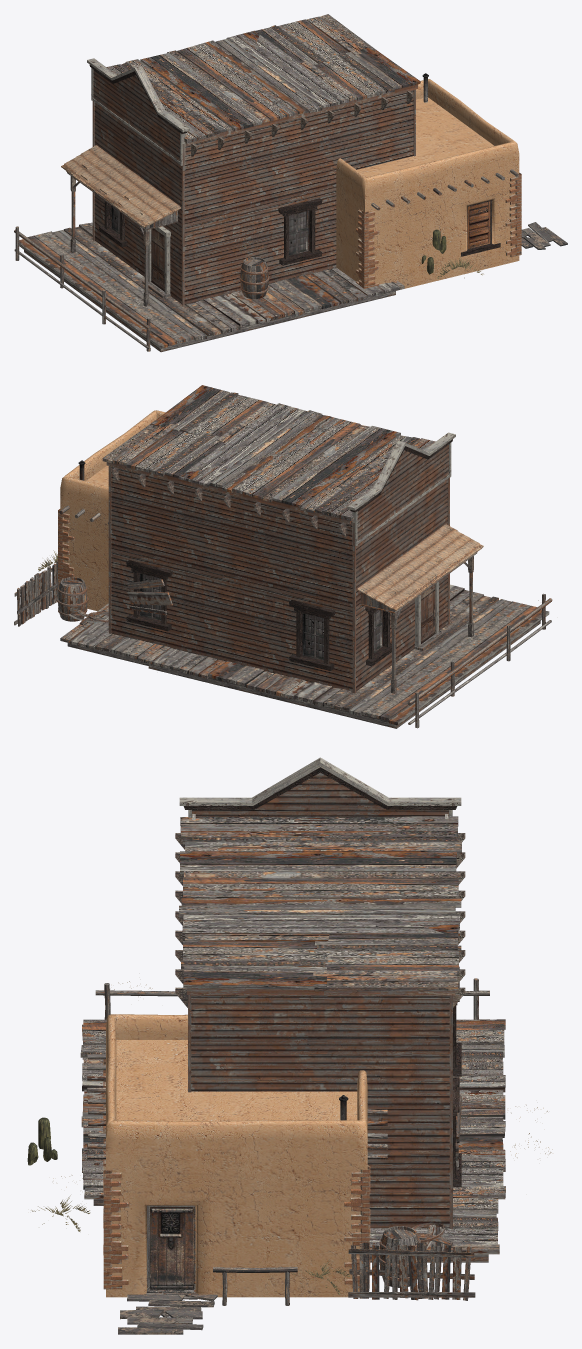
The model's file is House_08_M2.gltf.
The picture shows the model from 3 angles, top to bottom: view 1: azimuth 30°, elevation 25°; view 2: azimuth 150°, elevation 25°; view 3: azimuth 270°, elevation 25°; orthographic projection. The views are drawn at different scales.
Visible parts, largest first — view 1: Floor_9x9, Roof_W6D6_v2, Wall_W6H3_T1 (2), Roof_W6_v1, Wall_W3H3_T1 (2), Wall_W3H3_T1, Wall_W3H3_T3, SignBack_W6H2D2_v1, RoofExtension_W5_v1, Wall_W_W3H3_T3, Wall_W_W3H3_T1, Roof_W3D3_v1 (+19 smaller); view 2: Roof_W6D6_v2, Floor_9x9, Wall_W6H3_T1 (3), Wall_W3H3_T1 (1), Wall_W3H3_T1 (3), SignBack_W6H2D2_v1, Window_W_v4 (×3), RoofExtension_W5_v1, Wall_W_W3H3_T1 (4), Wall_W_W3H3_T1 (3), Roof_W3D3_v1 (1), Wall_W6H3_T1 (1) (+14 smaller); view 3: Roof_W6D6_v2, Wall_W6H3_T1 (4), Roof_W6_v1 (1), Wall_W3H3_T3 (2), Floor_9x9, Wall_D_W3H3_T3, Wall_W6H3_T1, Roof_W3D3_v1 (1), Roof_W3D3_v1, SignBack_W6H2D2_v1, Wall_W6H3_T3, Fence_W3_v3 (+13 smaller).
Part boxes in pixels (x1,y1,x2,y2): Floor_9x9: (19, 222, 404, 352); Roof_W6D6_v2: (106, 30, 348, 144); Wall_W6H3_T1 (2): (260, 90, 413, 205); Roof_W6_v1: (365, 141, 519, 216); Wall_W3H3_T1 (2): (184, 127, 260, 223); Wall_W3H3_T1: (184, 205, 260, 304); Wall_W3H3_T3: (368, 199, 441, 290); SignBack_W6H2D2_v1: (87, 58, 189, 165); RoofExtension_W5_v1: (61, 145, 180, 230); Wall_W_W3H3_T3: (442, 181, 519, 279); Wall_W_W3H3_T1: (260, 187, 336, 283); Roof_W3D3_v1: (300, 47, 420, 106); Roof_W6D6_v2: (178, 403, 435, 523); Floor_9x9: (137, 584, 549, 728); Wall_W6H3_T1 (3): (191, 486, 352, 606); Wall_W3H3_T1 (1): (191, 568, 272, 672); Wall_W3H3_T1 (3): (111, 466, 191, 567); SignBack_W6H2D2_v1: (347, 432, 455, 545); Window_W_v4 (×3): (126, 560, 396, 670); RoofExtension_W5_v1: (357, 524, 483, 613); Wall_W_W3H3_T1 (4): (273, 588, 352, 692); Wall_W_W3H3_T1 (3): (111, 548, 191, 652); Roof_W3D3_v1 (1): (102, 423, 223, 485); Wall_W6H3_T1 (1): (356, 479, 447, 605); Roof_W6D6_v2: (179, 816, 461, 937); Wall_W6H3_T1 (4): (191, 995, 449, 1109); Roof_W6_v1 (1): (106, 1120, 367, 1178); Wall_W3H3_T3 (2): (236, 1178, 360, 1297); Floor_9x9: (80, 1019, 505, 1205); Wall_D_W3H3_T3: (106, 1178, 236, 1297); Wall_W6H3_T1: (367, 1109, 449, 1227); Roof_W3D3_v1 (1): (313, 924, 461, 995); Roof_W3D3_v1: (181, 934, 329, 994); SignBack_W6H2D2_v1: (179, 757, 461, 819); Wall_W6H3_T3: (116, 1040, 240, 1120); Fence_W3_v3: (348, 1242, 475, 1300).
Bounding box in the file's own units: 17.48 × 8.04 × 12.7.
Materials: 2 (2 with a texture image).
